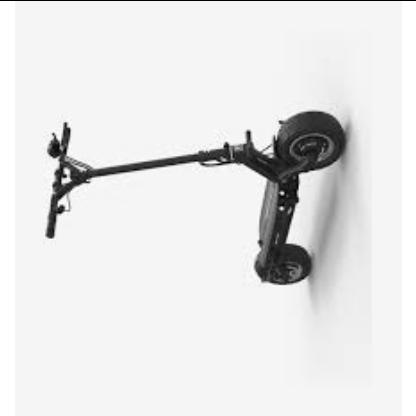bike: (44, 109, 348, 288)
